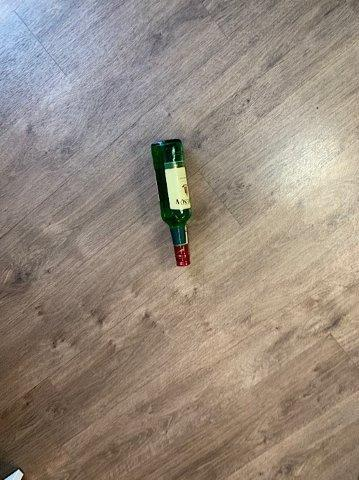botolkaca: (151, 140, 192, 265)
